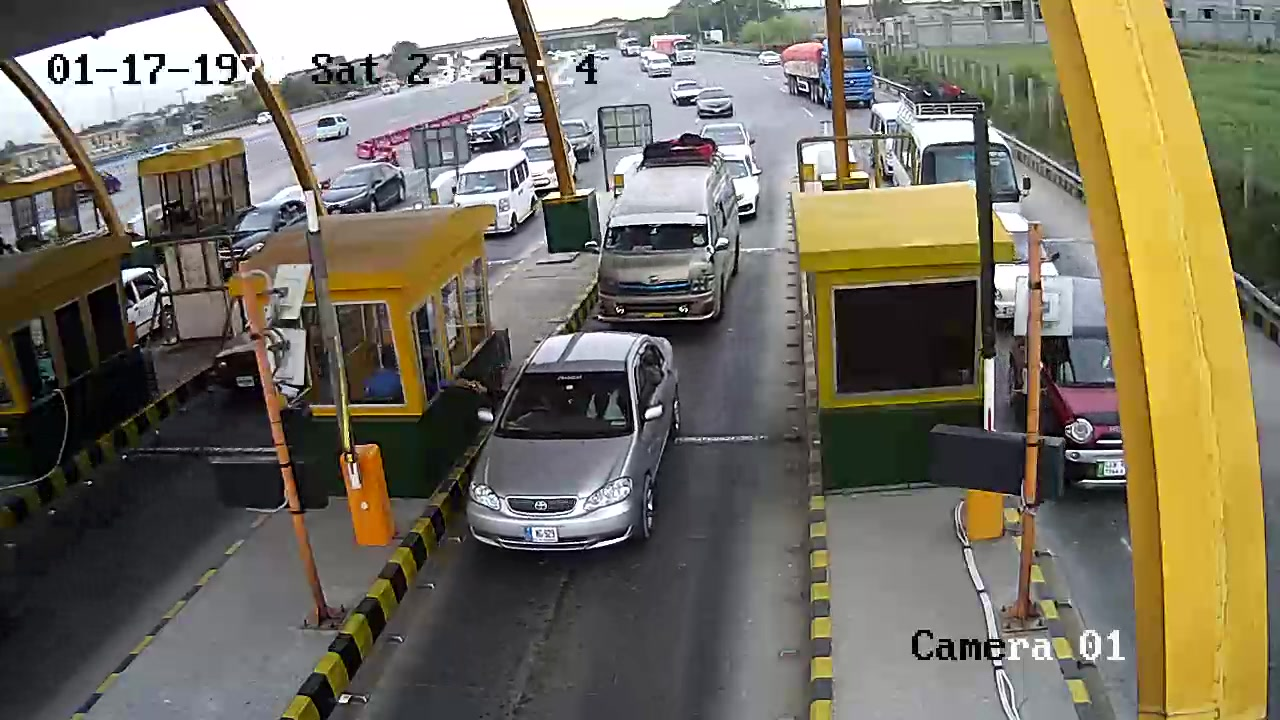F1: (442, 329, 693, 557)
F2: (587, 132, 747, 335)
